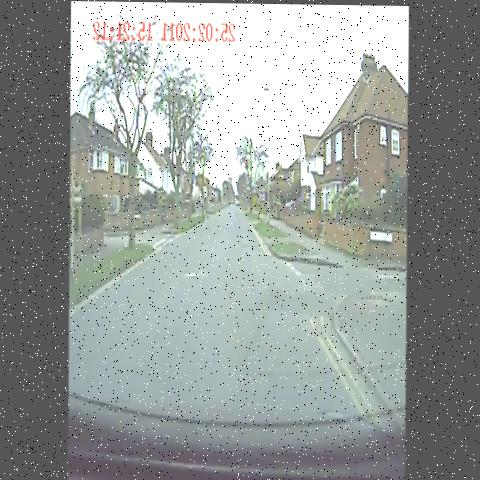pothole: (180, 263, 206, 296), (235, 234, 253, 260)
